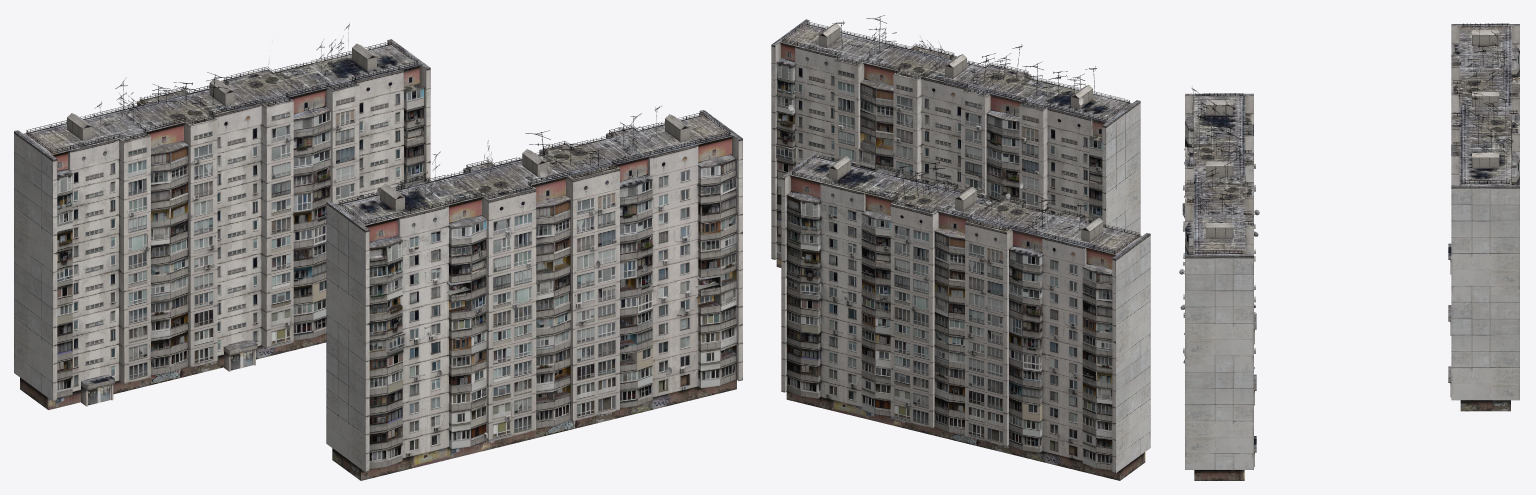
The model's file is blk12.glb.
The picture shows the model from 3 angles, left to right: view 1: azimuth 30°, elevation 25°; view 2: azimuth 150°, elevation 25°; view 3: azimuth 270°, elevation 25°; orthographic projection. The views are drawn at different scales.
Parts seen in each view (by area): view 1: 12stbuilding1_LOD0_12storeybuilding1_0, 12stbuilding1_LOD0_antenna_0; view 2: 12stbuilding1_LOD0_12storeybuilding1_0, 12stbuilding1_LOD0_antenna_0; view 3: 12stbuilding1_LOD0_12storeybuilding1_0, 12stbuilding1_LOD0_antenna_0.
Part boxes in pixels (box(x1,y1,x2,y2)): 12stbuilding1_LOD0_12storeybuilding1_0: box(14, 39, 742, 480); 12stbuilding1_LOD0_antenna_0: box(26, 24, 730, 377); 12stbuilding1_LOD0_12storeybuilding1_0: box(771, 19, 1150, 480); 12stbuilding1_LOD0_antenna_0: box(782, 15, 1139, 253); 12stbuilding1_LOD0_12storeybuilding1_0: box(1179, 24, 1519, 480); 12stbuilding1_LOD0_antenna_0: box(1182, 23, 1518, 309).
Size of the model in its own units: 77.05 by 40.09 by 47.99.
Materials: 2 (2 with a texture image).
